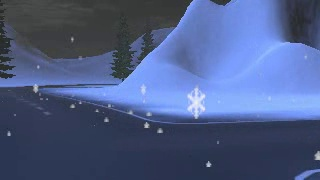Lane: (0, 85, 319, 179)
